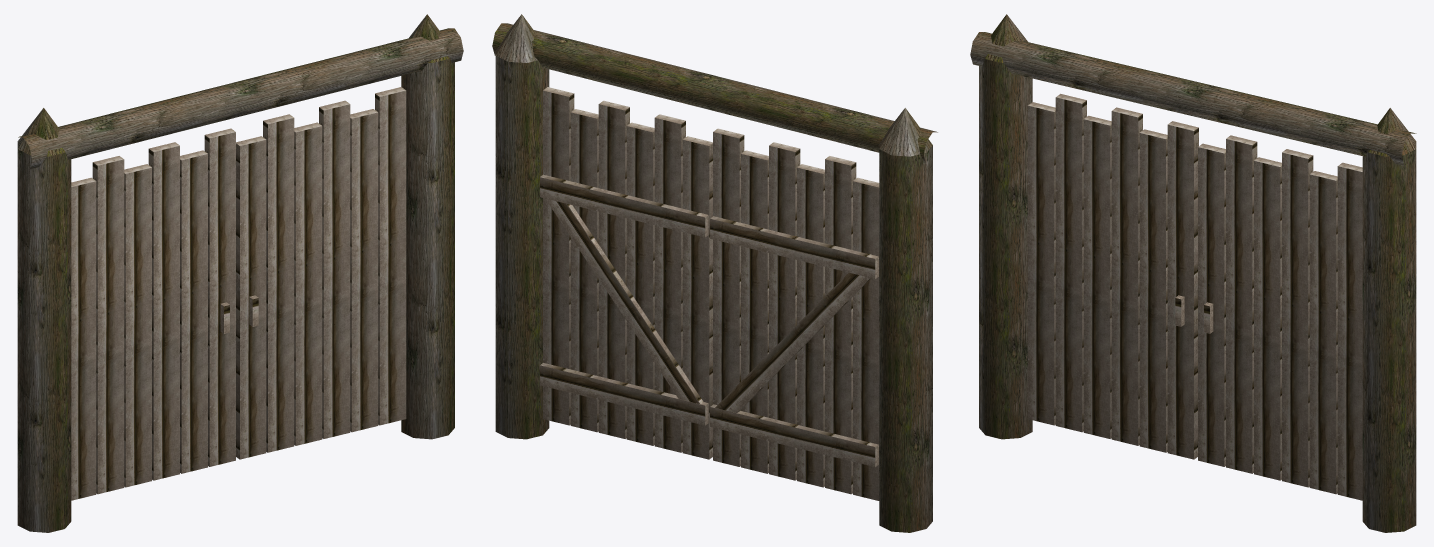
File: lg-palisadentor.glb
3 views of the same model, side by side, from view 1: azimuth 30°, elevation 25°; view 2: azimuth 150°, elevation 25°; view 3: azimuth 330°, elevation 25° (orthographic).
Parts seen in each view (by area): view 1: lg-palisadentor; view 2: lg-palisadentor; view 3: lg-palisadentor.
Part boxes in pixels (left/top/right/bottom): lg-palisadentor: left=17, top=14, right=463, bottom=532; lg-palisadentor: left=492, top=14, right=937, bottom=532; lg-palisadentor: left=970, top=14, right=1416, bottom=532.
Size of the model in its own units: 3.6 by 3.3 by 0.3879.
Materials: 2 (2 with a texture image).
